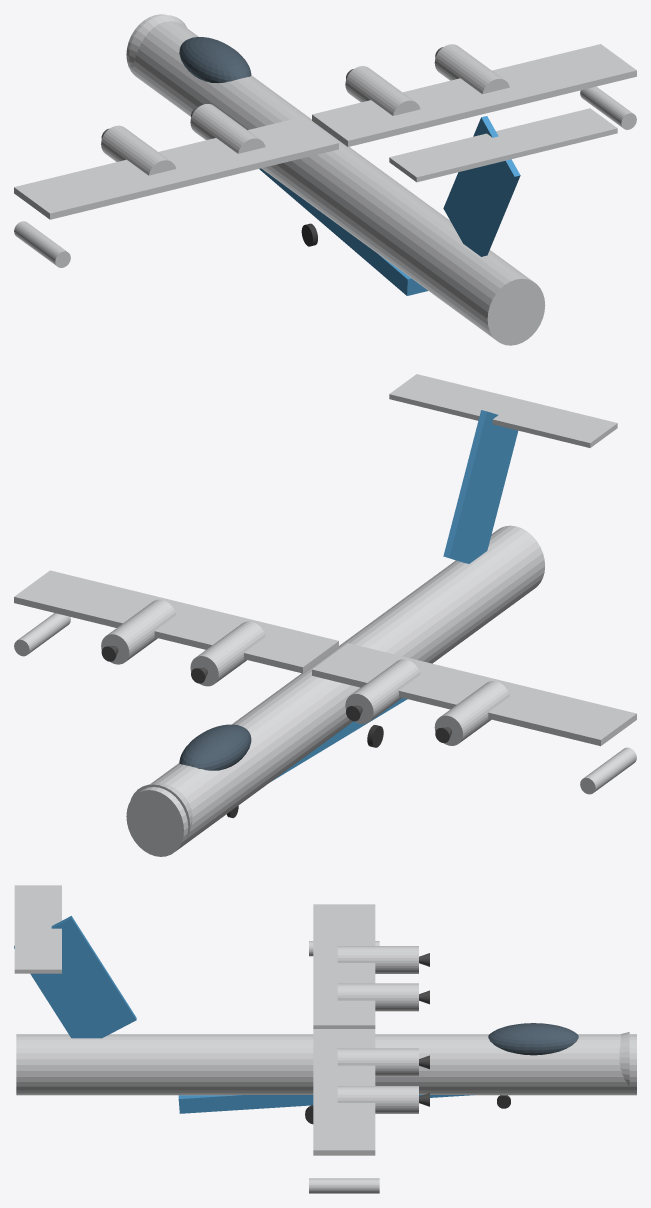
Rendered from avic_ag600_kunlong.glb.
3 renders of one model, top to bottom at view 1: azimuth 30°, elevation 25°; view 2: azimuth 150°, elevation 25°; view 3: azimuth 270°, elevation 25°, orthographic. The views are drawn at different scales.
Visible parts, largest first — view 1: AG600_Fuselage, Cube.003, Cube.002, Cube.001, AG600_VFin, Sphere, Cube, Cylinder.002, Cylinder.001, Cylinder.004, Cylinder.005, Cylinder.003 (+2 smaller); view 2: AG600_Fuselage, Cube.002, Cube.003, Cube.001, AG600_VFin, Sphere, Cylinder.001, Cylinder.002, Cylinder.005, Cylinder.004, Cylinder.003, Cylinder (+1 smaller); view 3: AG600_Fuselage, Cube.002, Cube.003, AG600_VFin, Cube.001, Sphere, Cube, Cylinder.001, Cylinder.004, Cylinder.002, Cylinder.005, Cylinder (+1 smaller).
Boxes of the visible parts, <box> form: AG600_Fuselage: <box>126,14,545,345</box>; Cube.003: <box>14,116,338,219</box>; Cube.002: <box>312,44,636,146</box>; Cube.001: <box>389,108,617,182</box>; AG600_VFin: <box>443,116,520,256</box>; Sphere: <box>179,37,251,82</box>; Cube: <box>259,168,427,295</box>; Cylinder.002: <box>434,44,509,94</box>; Cylinder.001: <box>345,66,420,115</box>; Cylinder.004: <box>190,104,265,153</box>; Cylinder.005: <box>101,125,176,175</box>; Cylinder.003: <box>14,221,70,267</box>; AG600_Fuselage: <box>126,525,544,856</box>; Cube.002: <box>14,570,338,673</box>; Cube.003: <box>312,643,636,746</box>; Cube.001: <box>389,374,617,447</box>; AG600_VFin: <box>443,410,518,563</box>; Sphere: <box>179,724,251,770</box>; Cylinder.001: <box>190,621,265,686</box>; Cylinder.002: <box>101,599,176,664</box>; Cylinder.005: <box>434,681,509,745</box>; Cylinder.004: <box>345,659,420,724</box>; Cylinder.003: <box>580,747,636,794</box>; Cylinder: <box>14,613,70,656</box>; AG600_Fuselage: <box>16,1034,636,1095</box>; Cube.002: <box>313,1029,375,1155</box>; Cube.003: <box>313,904,375,1028</box>; AG600_VFin: <box>14,916,136,1038</box>; Cube.001: <box>14,885,61,973</box>; Sphere: <box>488,1023,578,1055</box>; Cube: <box>178,1095,474,1113</box>; Cylinder.001: <box>337,1048,418,1076</box>; Cylinder.004: <box>337,983,418,1011</box>; Cylinder.002: <box>337,1086,418,1113</box>; Cylinder.005: <box>337,946,418,973</box>; Cylinder: <box>309,1178,379,1193</box>.
Bounding box in the file's own units: 39.4 × 14.39 × 42.15.
